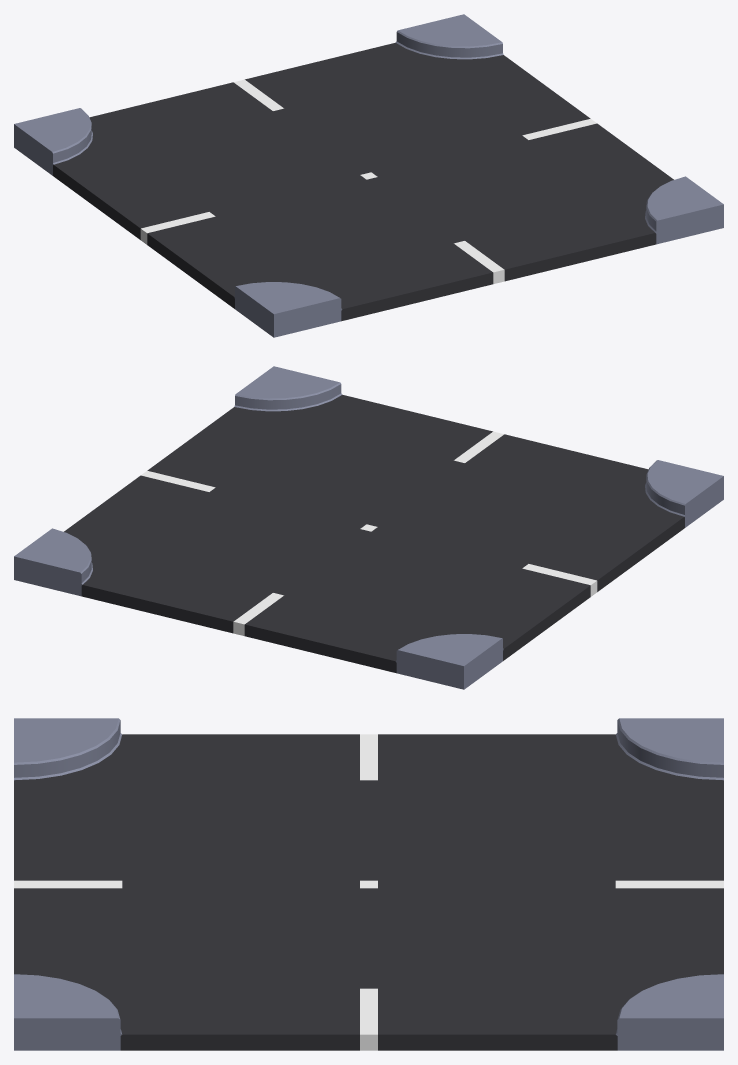
The model's file is road-cross.fbx.
The picture shows the model from 3 angles, top to bottom: view 1: azimuth 30°, elevation 25°; view 2: azimuth 150°, elevation 25°; view 3: azimuth 270°, elevation 25°; orthographic projection. The views are drawn at different scales.
Visible parts, largest first — view 1: road-corss; view 2: road-corss; view 3: road-corss.
Boxes of the visible parts, bbox=[...] form: road-corss: bbox=[14, 14, 723, 337]; road-corss: bbox=[14, 366, 723, 689]; road-corss: bbox=[14, 718, 723, 1050].
Size of the model in its own units: 400 by 400 by 20.
